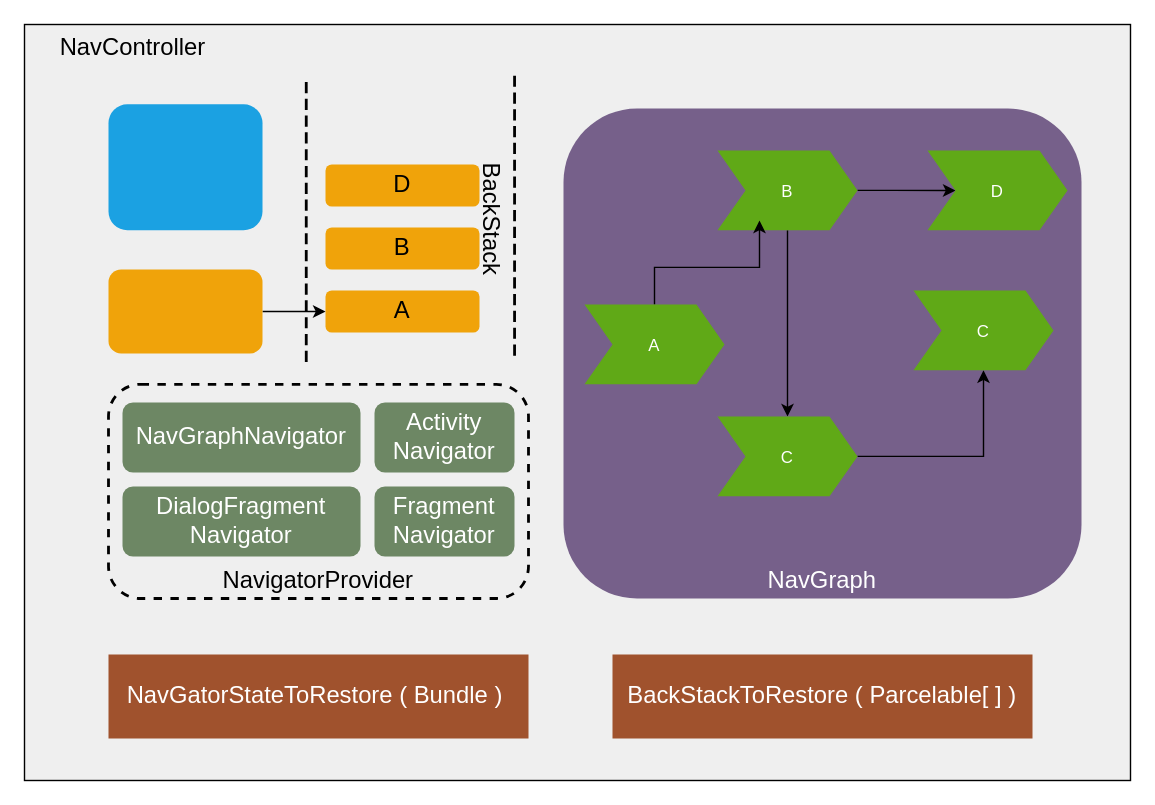
This 1155x805 diagram has some shape labels left out. Each missing label, with the centre of its shape:
"NavBack StackEntry" belongs at [185,311].
"NavInflater" belongs at [185,167].
